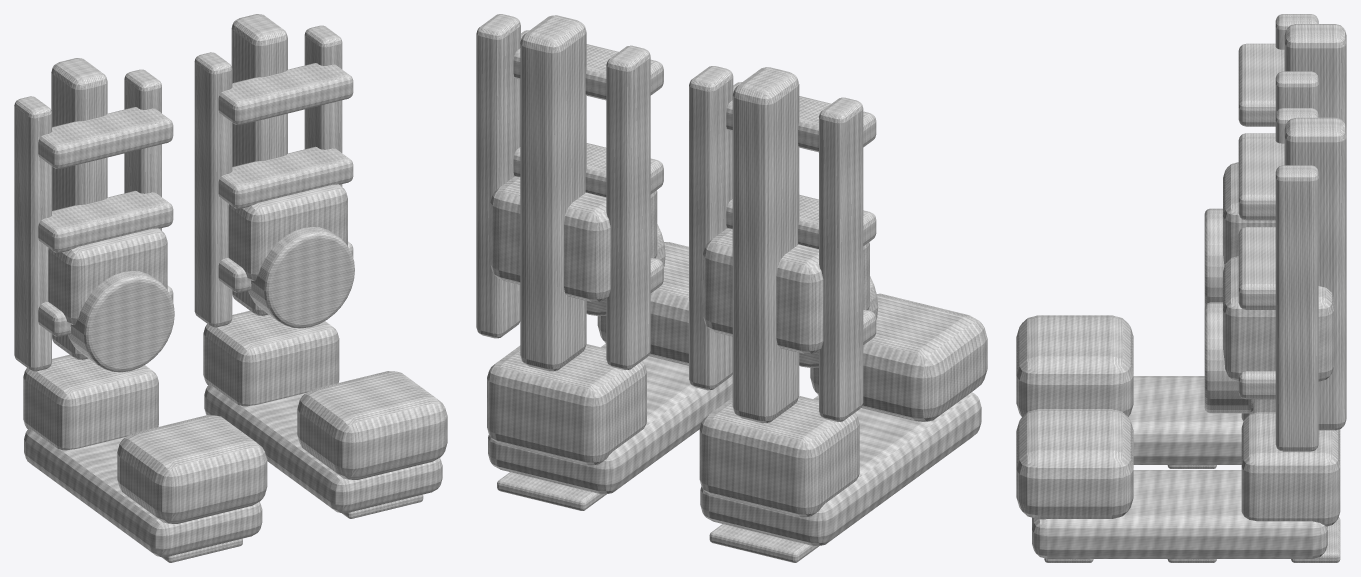
Rendered from blade_runners_variant_c.glb.
The picture shows the model from 3 angles, left to right: view 1: azimuth 30°, elevation 25°; view 2: azimuth 150°, elevation 25°; view 3: azimuth 270°, elevation 25°; orthographic projection. The views are drawn at different scales.
Visible parts, largest first — view 1: Toe armor.005, Toe armor.004, Heel block.005, Heel block.004, Boot sole.005, Boot sole.006, Exoskeleton side strut.002, Exoskeleton side strut, Ankle pivot, Ankle pivot.001, Ankle cuff.005, Ankle cuff.006 (+12 smaller); view 2: External shin rail, External shin rail.001, Heel block.004, Heel block.005, Exoskeleton side strut, Exoskeleton side strut.002, Boot sole.005, Toe armor.004, Exoskeleton side strut.003, Exoskeleton side strut.001, Boot sole.006, Ankle cuff.006 (+8 smaller); view 3: Boot sole.006, Exoskeleton side strut.003, Toe armor.005, Toe armor.004, External shin rail.001, Heel block.005, Boot sole.005, Ankle cuff.006, External shin rail, Rail clamp.002, Rail clamp.005, Rail clamp.004 (+8 smaller).
Boxes of the visible parts, bbox=[...] form: Toe armor.005: bbox=[297, 371, 447, 479]; Toe armor.004: bbox=[117, 415, 267, 523]; Heel block.005: bbox=[203, 310, 339, 406]; Heel block.004: bbox=[23, 354, 158, 450]; Boot sole.005: bbox=[24, 426, 262, 556]; Boot sole.006: bbox=[204, 385, 442, 513]; Exoskeleton side strut.002: bbox=[194, 52, 232, 327]; Exoskeleton side strut: bbox=[14, 96, 51, 371]; Ankle pivot: bbox=[248, 227, 354, 328]; Ankle pivot.001: bbox=[68, 271, 174, 372]; Ankle cuff.005: bbox=[48, 228, 167, 324]; Ankle cuff.006: bbox=[228, 184, 347, 281]; External shin rail: bbox=[732, 67, 799, 423]; External shin rail.001: bbox=[520, 15, 586, 371]; Heel block.004: bbox=[699, 396, 859, 517]; Heel block.005: bbox=[487, 344, 646, 465]; Exoskeleton side strut: bbox=[819, 97, 863, 421]; Exoskeleton side strut.002: bbox=[606, 45, 650, 369]; Boot sole.005: bbox=[700, 392, 981, 545]; Toe armor.004: bbox=[810, 293, 987, 421]; Exoskeleton side strut.003: bbox=[476, 14, 520, 338]; Exoskeleton side strut.001: bbox=[689, 66, 733, 390]; Boot sole.006: bbox=[488, 343, 732, 494]; Ankle cuff.006: bbox=[490, 176, 657, 302]; Boot sole.006: bbox=[1032, 470, 1327, 558]; Exoskeleton side strut.003: bbox=[1275, 165, 1318, 451]; Toe armor.005: bbox=[1016, 409, 1133, 519]; Toe armor.004: bbox=[1016, 315, 1133, 416]; External shin rail.001: bbox=[1284, 117, 1346, 430]; Heel block.005: bbox=[1241, 412, 1340, 526]; Boot sole.005: bbox=[1128, 376, 1243, 464]; Ankle cuff.006: bbox=[1223, 256, 1334, 381]; External shin rail: bbox=[1284, 24, 1346, 128]; Rail clamp.002: bbox=[1238, 43, 1284, 126]; Rail clamp.005: bbox=[1238, 137, 1284, 220]; Rail clamp.004: bbox=[1238, 227, 1275, 309].
Size of what is drawn, in the model's own units: 0.625 by 0.754 by 0.535.
Materials: 5 (5 with a texture image).
